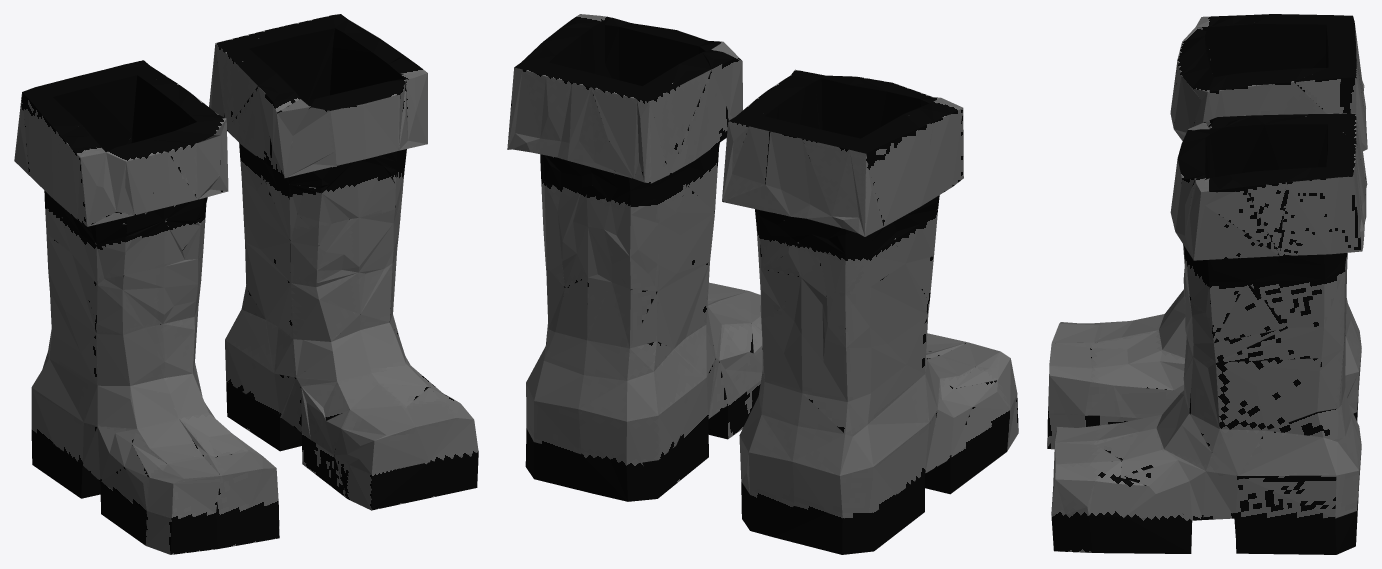
3 renders of one model, left to right at view 1: azimuth 30°, elevation 25°; view 2: azimuth 150°, elevation 25°; view 3: azimuth 270°, elevation 25°, orthographic. The views are drawn at different scales.
Parts seen in each view (by area): view 1: OBJ02b; view 2: OBJ02b; view 3: OBJ02b.
Boxes of the visible parts, x1,y1,x2,y2 form: OBJ02b: (14, 14, 478, 554); OBJ02b: (507, 14, 1018, 554); OBJ02b: (1047, 14, 1367, 554).
Size of the model in its own units: 0.2435 by 0.2464 by 0.188.
1 material, 1 textured.
